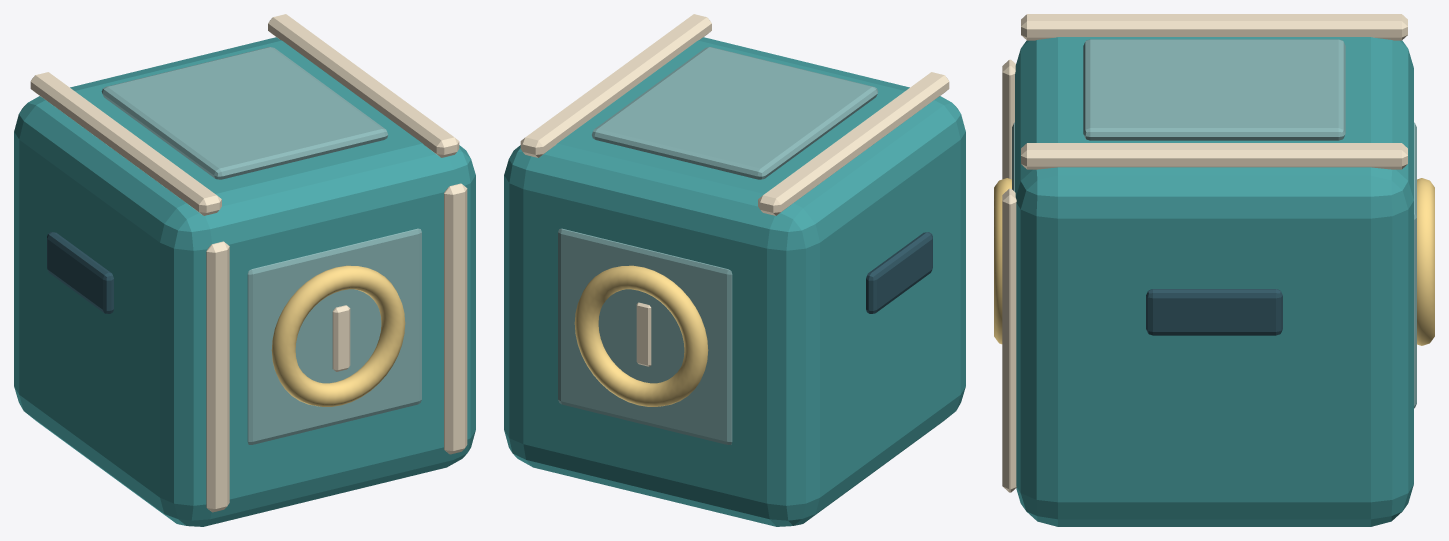
File: city_crate.glb
The picture shows the model from 3 angles, left to right: view 1: azimuth 30°, elevation 25°; view 2: azimuth 150°, elevation 25°; view 3: azimuth 270°, elevation 25°; orthographic projection. The views are drawn at different scales.
Parts seen in each view (by area): view 1: Batched City v2 transit enamel, Batched City v2 rainwashed blue plaster, Batched City v2 old ivory stucco, Batched City v2 transit cream, Batched City v2 deep window reveals; view 2: Batched City v2 transit enamel, Batched City v2 rainwashed blue plaster, Batched City v2 old ivory stucco, Batched City v2 transit cream, Batched City v2 deep window reveals; view 3: Batched City v2 transit enamel, Batched City v2 rainwashed blue plaster, Batched City v2 old ivory stucco, Batched City v2 deep window reveals, Batched City v2 transit cream.
Part boxes in pixels (x1,y1,x2,y2): Batched City v2 transit enamel: [14, 37, 475, 526]; Batched City v2 rainwashed blue plaster: [101, 47, 421, 444]; Batched City v2 old ivory stucco: [30, 14, 467, 512]; Batched City v2 transit cream: [271, 265, 405, 406]; Batched City v2 deep window reveals: [47, 232, 113, 313]; Batched City v2 transit enamel: [504, 37, 965, 526]; Batched City v2 rainwashed blue plaster: [558, 47, 878, 444]; Batched City v2 old ivory stucco: [520, 14, 949, 366]; Batched City v2 transit cream: [574, 265, 708, 406]; Batched City v2 deep window reveals: [866, 232, 932, 313]; Batched City v2 transit enamel: [1015, 37, 1413, 526]; Batched City v2 rainwashed blue plaster: [1012, 39, 1416, 408]; Batched City v2 old ivory stucco: [1002, 14, 1407, 492]; Batched City v2 deep window reveals: [1146, 289, 1282, 335]; Batched City v2 transit cream: [994, 178, 1434, 345].
Size of the model in its own units: 1.12 by 1.06 by 1.13.
